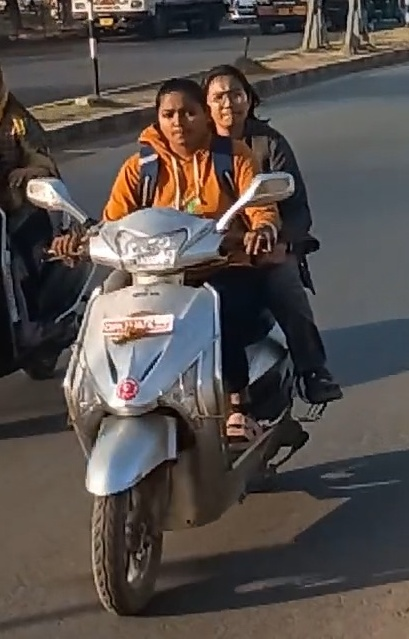BikeWithRider: (22, 59, 347, 620)
NoHelmet: (147, 75, 215, 146), (197, 61, 257, 128)
